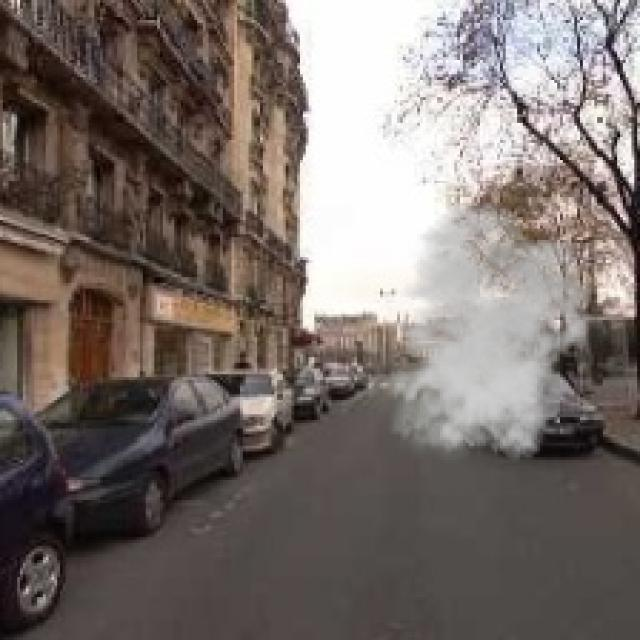smoke: (374, 200, 597, 469)
